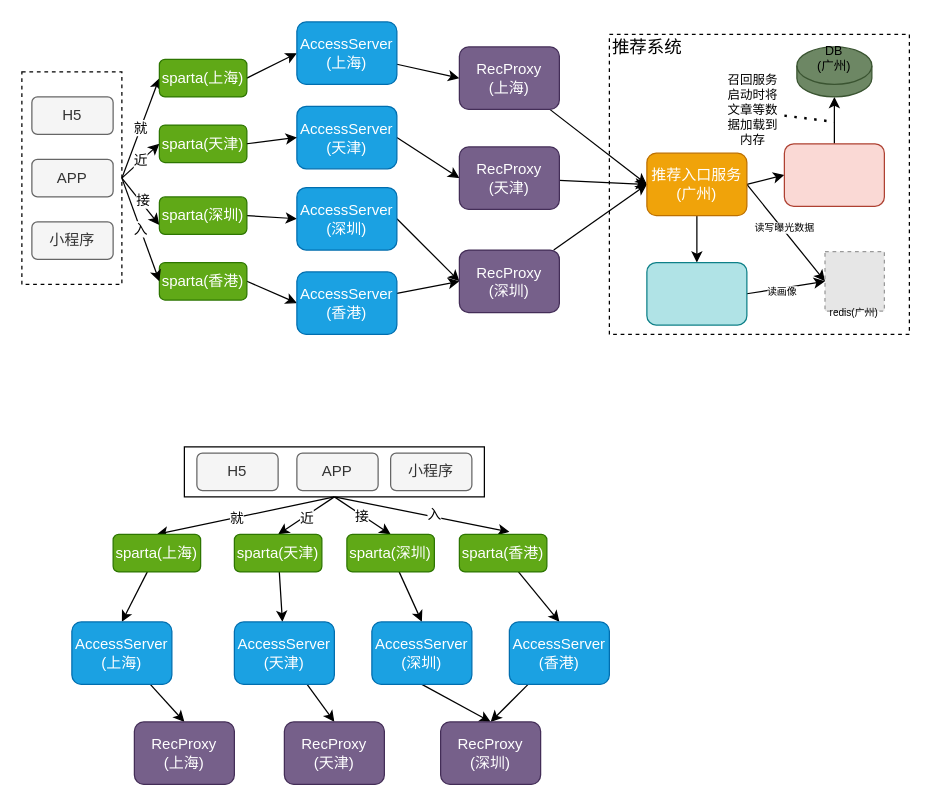
The diagram is 931 pixels wide and 806 high, and some of its shapes have lost their labels. Grey dashed boxes stand in for pictures. Here are the shapes that lost their labels. From the top down, the box of each, then its label:
(783, 142, 884, 206): 召回服务 (广州)
(646, 261, 747, 325): 画像服务 (广州)
